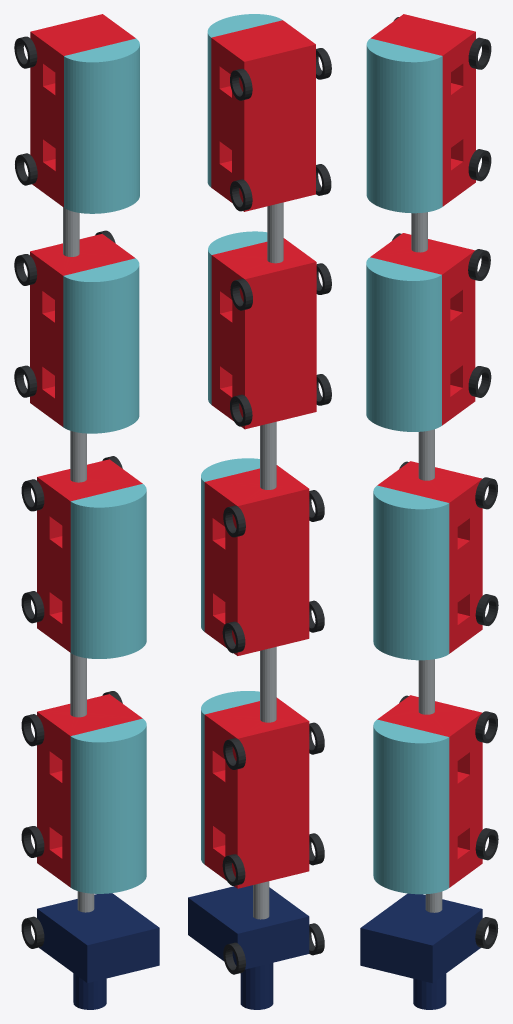
The model's file is tinker.obj.
3 renders of one model, left to right at view 1: azimuth 30°, elevation 25°; view 2: azimuth 210°, elevation 25°; view 3: azimuth 330°, elevation 25°, orthographic.
Visible parts, largest first — view 1: group_0_7720667, group_0_15277357, group_0_1650274, group_0_2829873, group_0_10988977; view 2: group_0_15277357, group_0_2829873, group_0_1650274, group_0_7720667, group_0_10988977; view 3: group_0_7720667, group_0_15277357, group_0_1650274, group_0_2829873, group_0_10988977.
Boxes of the visible parts, box(x1,y1,x2,y2) form: group_0_7720667: box(63, 38, 146, 893); group_0_15277357: box(30, 14, 142, 887); group_0_1650274: box(37, 893, 159, 1009); group_0_2829873: box(14, 36, 122, 948); group_0_10988977: box(63, 207, 94, 912); group_0_15277357: box(204, 20, 316, 888); group_0_2829873: box(222, 48, 331, 974); group_0_1650274: box(188, 885, 309, 1009); group_0_7720667: box(201, 14, 282, 864); group_0_10988977: box(253, 202, 283, 919); group_0_7720667: box(366, 38, 449, 894); group_0_15277357: box(370, 14, 482, 887); group_0_1650274: box(360, 893, 482, 1009); group_0_2829873: box(392, 17, 498, 948); group_0_10988977: box(411, 212, 442, 912).
Bounding box in the file's own units: 13.07 × 128 × 14.02.
